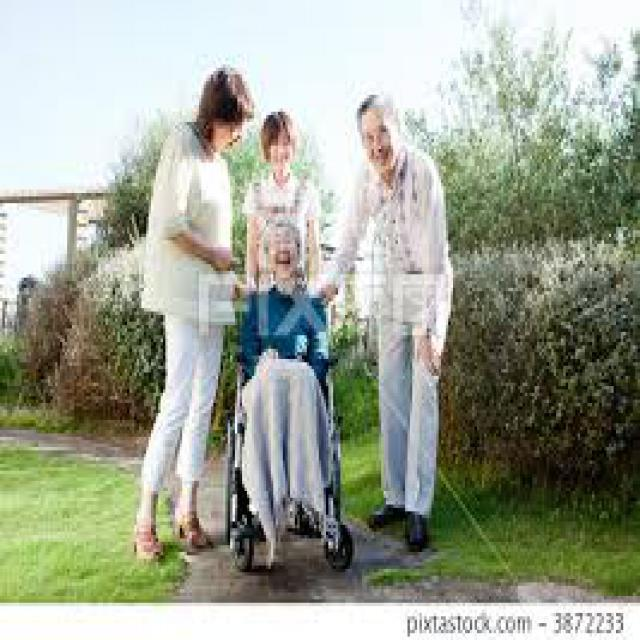wheelchairs: (218, 335, 362, 576)
